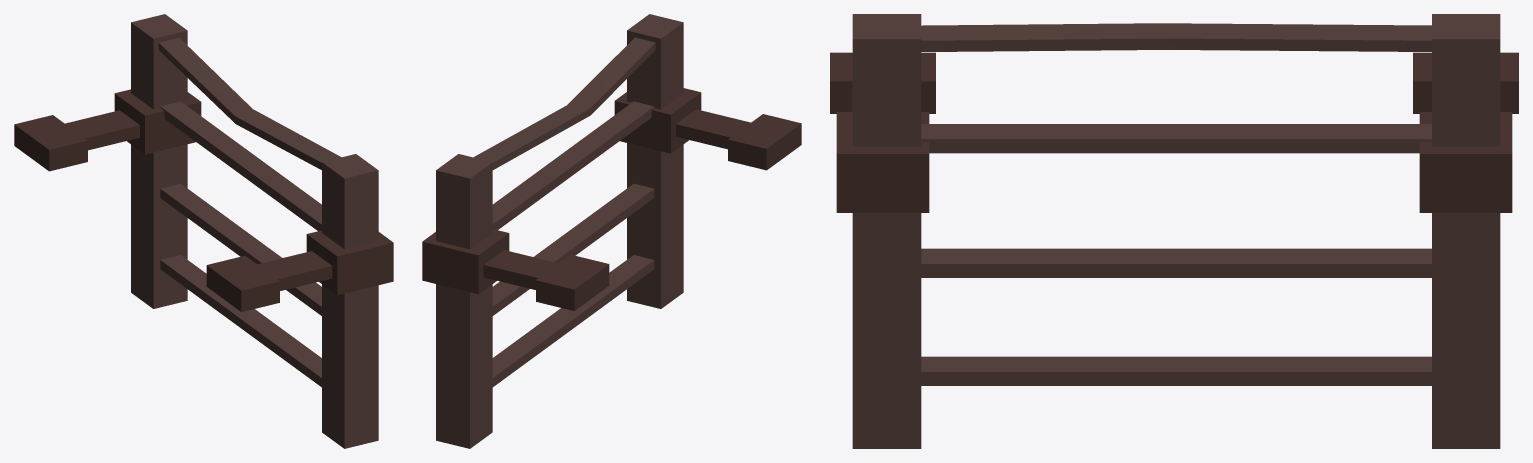
The model's file is short_ladder.glb.
3 views of the same model, side by side, from view 1: azimuth 30°, elevation 25°; view 2: azimuth 150°, elevation 25°; view 3: azimuth 270°, elevation 25° (orthographic). The views are drawn at different scales.
Visible parts, largest first — view 1: pCube187_rust_metal_0.001, pCube188_rust_metal_0.001, pCube210_lambert44_0.001, pCube211_lambert44_0.001, pCube189_rust_metal_0.001, pCube190_rust_metal_0.001, pCube192_rust_metal_0.001, pCube191_rust_metal_0.001; view 2: pCube188_rust_metal_0.001, pCube187_rust_metal_0.001, pCube211_lambert44_0.001, pCube210_lambert44_0.001, pCube189_rust_metal_0.001, pCube190_rust_metal_0.001, pCube192_rust_metal_0.001, pCube191_rust_metal_0.001; view 3: pCube187_rust_metal_0.001, pCube188_rust_metal_0.001, pCube191_rust_metal_0.001, pCube192_rust_metal_0.001, pCube190_rust_metal_0.001, pCube189_rust_metal_0.001, pCube210_lambert44_0.001, pCube211_lambert44_0.001.
Part boxes in pixels (bbox=[...]): pCube187_rust_metal_0.001: bbox=[322, 154, 378, 448]; pCube188_rust_metal_0.001: bbox=[131, 14, 187, 308]; pCube210_lambert44_0.001: bbox=[206, 230, 393, 311]; pCube211_lambert44_0.001: bbox=[14, 89, 201, 171]; pCube189_rust_metal_0.001: bbox=[158, 37, 340, 169]; pCube190_rust_metal_0.001: bbox=[160, 101, 321, 231]; pCube192_rust_metal_0.001: bbox=[160, 255, 321, 387]; pCube191_rust_metal_0.001: bbox=[160, 183, 321, 315]; pCube188_rust_metal_0.001: bbox=[436, 154, 492, 448]; pCube187_rust_metal_0.001: bbox=[627, 14, 683, 308]; pCube211_lambert44_0.001: bbox=[422, 229, 609, 310]; pCube210_lambert44_0.001: bbox=[614, 88, 801, 170]; pCube189_rust_metal_0.001: bbox=[473, 37, 655, 169]; pCube190_rust_metal_0.001: bbox=[492, 101, 654, 230]; pCube192_rust_metal_0.001: bbox=[492, 255, 654, 386]; pCube191_rust_metal_0.001: bbox=[492, 183, 654, 315]; pCube187_rust_metal_0.001: bbox=[852, 14, 921, 448]; pCube188_rust_metal_0.001: bbox=[1432, 14, 1500, 448]; pCube191_rust_metal_0.001: bbox=[921, 248, 1431, 277]; pCube192_rust_metal_0.001: bbox=[921, 356, 1431, 385]; pCube190_rust_metal_0.001: bbox=[921, 124, 1431, 153]; pCube189_rust_metal_0.001: bbox=[921, 23, 1431, 51]; pCube210_lambert44_0.001: bbox=[830, 52, 935, 212]; pCube211_lambert44_0.001: bbox=[1413, 52, 1518, 212].
Size of the model in its own units: 0.5866 by 0.981 by 1.49.
